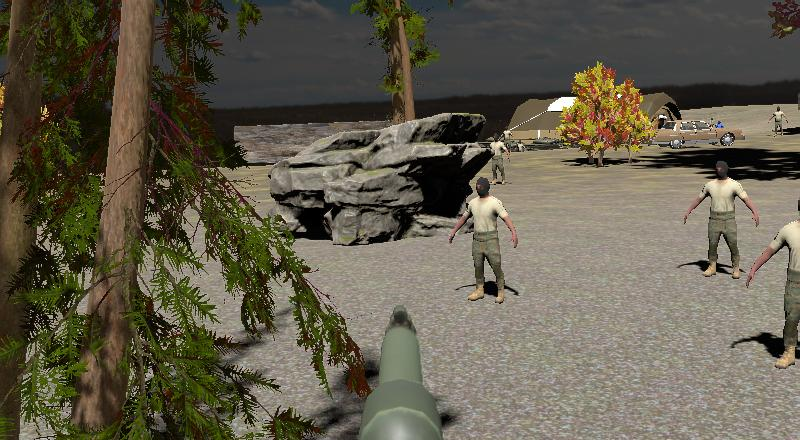Human: (445, 169, 522, 308), (744, 187, 800, 374), (680, 159, 763, 282), (487, 138, 511, 187), (770, 105, 788, 138), (771, 105, 788, 137)
car: (634, 117, 746, 150), (635, 117, 746, 150)
